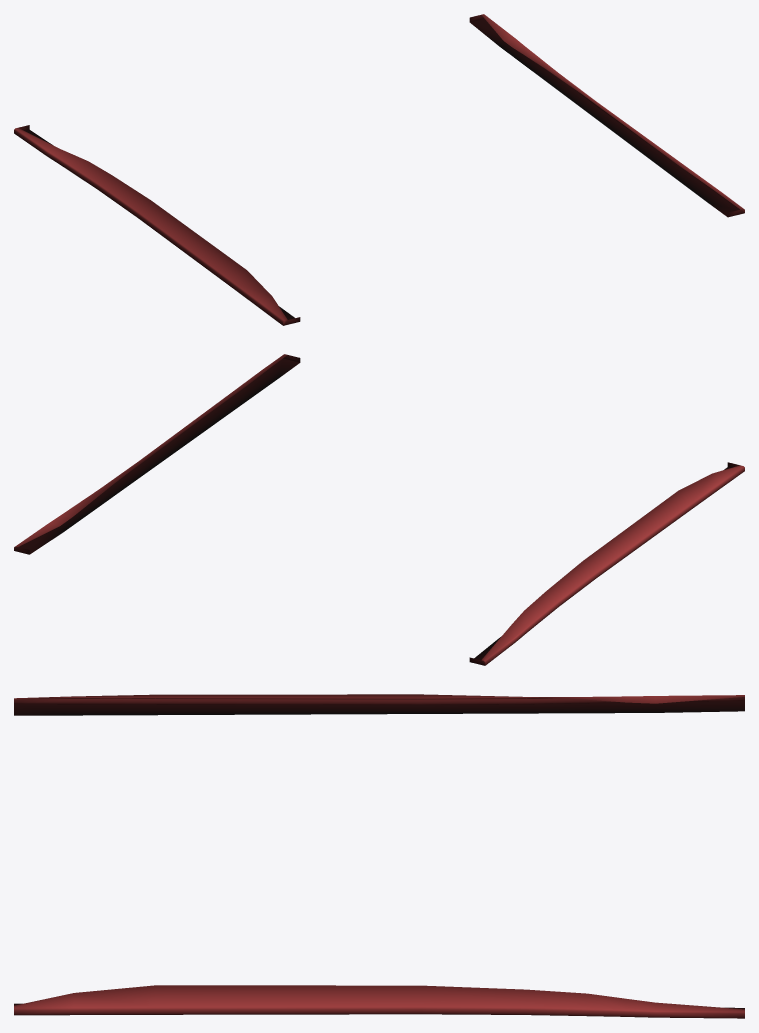
File: Supra_SideSkirt_04_Trim.fbx
3 views of the same model, one above another, from view 1: azimuth 30°, elevation 25°; view 2: azimuth 150°, elevation 25°; view 3: azimuth 270°, elevation 25° (orthographic). The views are drawn at different scales.
Parts seen in each view (by area): view 1: Supra_SideSkirt_04_Trim; view 2: Supra_SideSkirt_04_Trim; view 3: Supra_SideSkirt_04_Trim.
Part boxes in pixels (box(x1,y1,x2,y2)): Supra_SideSkirt_04_Trim: box(14, 14, 744, 325); Supra_SideSkirt_04_Trim: box(14, 354, 744, 665); Supra_SideSkirt_04_Trim: box(14, 694, 744, 1018).
Bounding box in the file's own units: 183 × 5.3 × 178.
